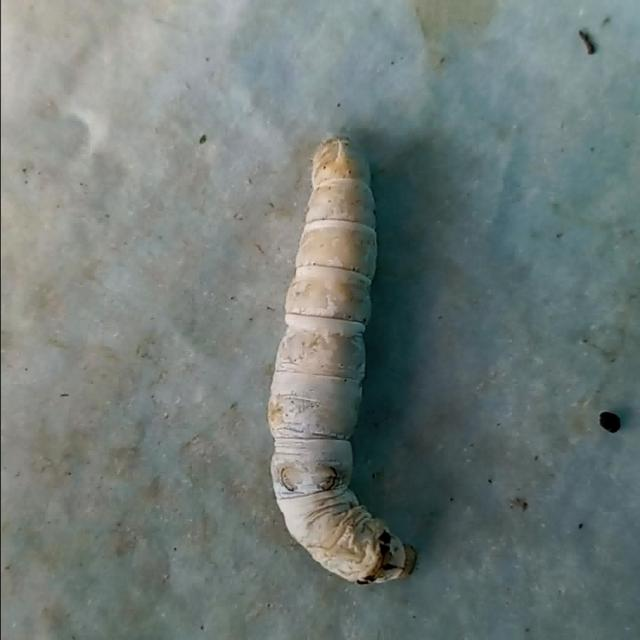Grasserie: (255, 124, 425, 602)
